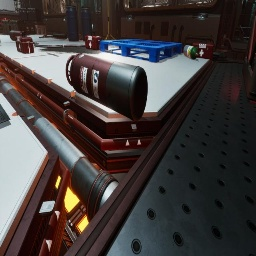0: (183, 45, 198, 60), (0, 39, 0, 44)
EmergencyPhone ,: (41, 15, 42, 20)
FirstAidBox ,: (192, 38, 214, 60), (15, 31, 34, 54), (85, 32, 101, 50)
NitrogenTank ,: (66, 53, 148, 121), (9, 30, 27, 41)
SafetySwitchPanel ,: (35, 22, 36, 22)
